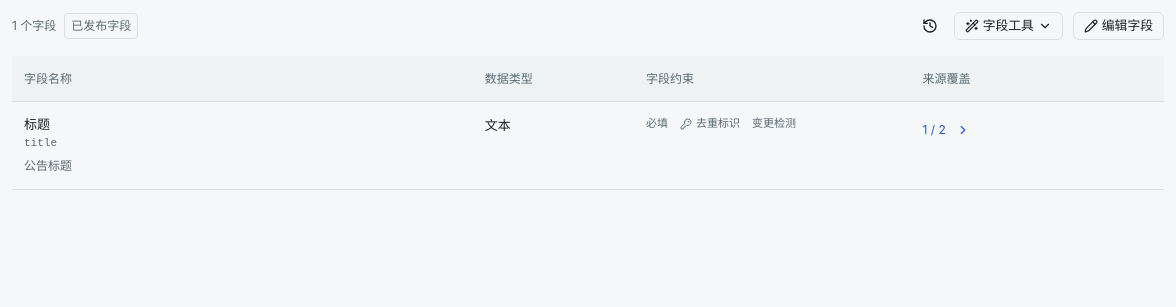
it: does not label a field definition identical to the active version as unpublished
expect the text "已发布字段" is shown: met, box [64,13,138,39]
expect the text "草稿尚未应用，已有来源按原规则采集。" is not shown: met
Click the button "编辑字段".
click(1118, 26)  # box [1073,12,1164,40]
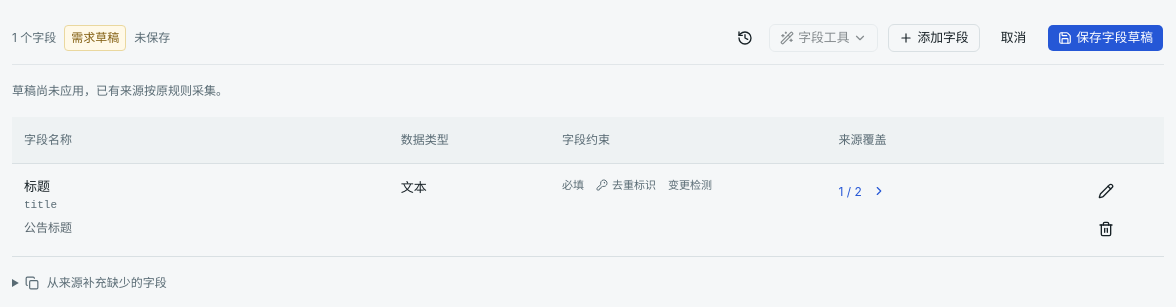
expect the text "需求草稿" is shown: met, box [64,25,126,51]
